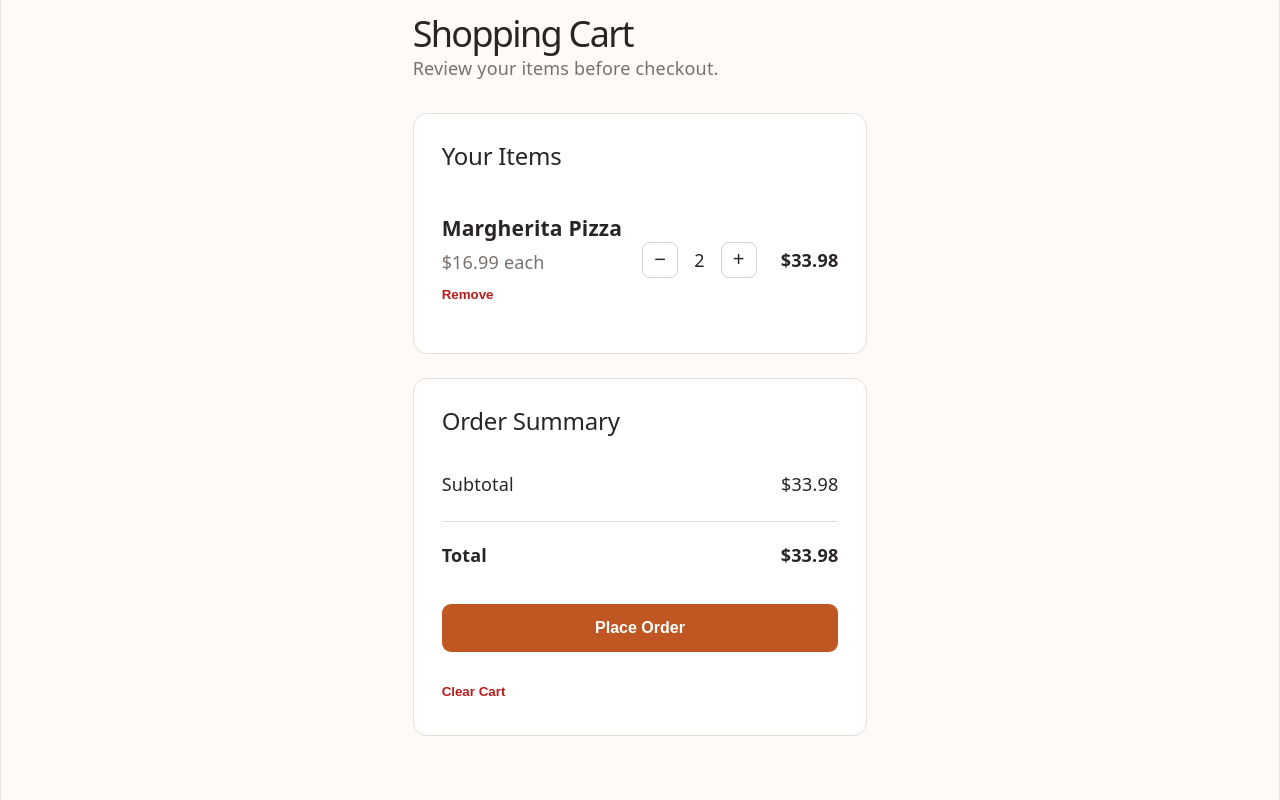
Shopping Cart › clears the entire cart
This screenshot has width=1280, height=800.
(page scrolled)
Expected: the heading "Margherita Pizza" is shown, 442,215 -> 622,241
Click the button "Clear Cart".
click(473, 692)  # box 442,676 -> 505,707
(page scrolled)
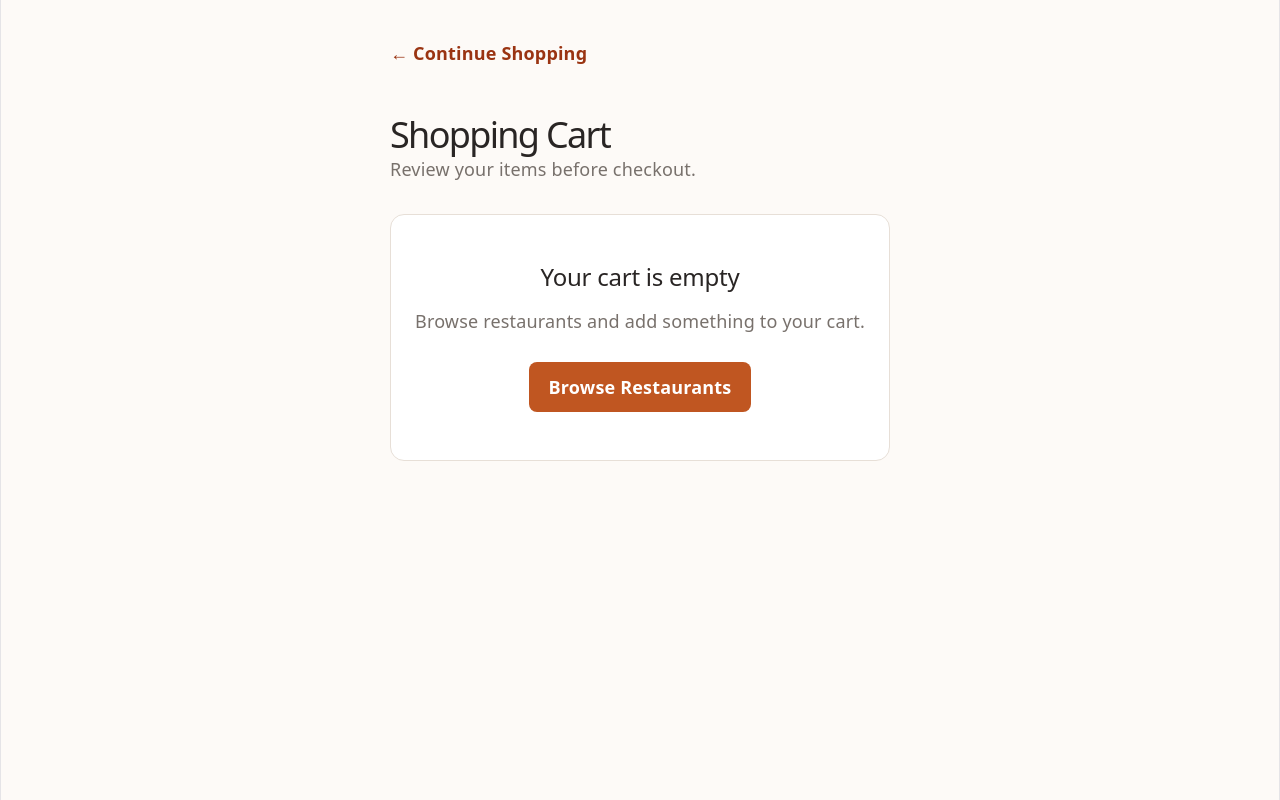
Expected: the heading "Your cart is empty" is shown, 540,260 -> 739,293
